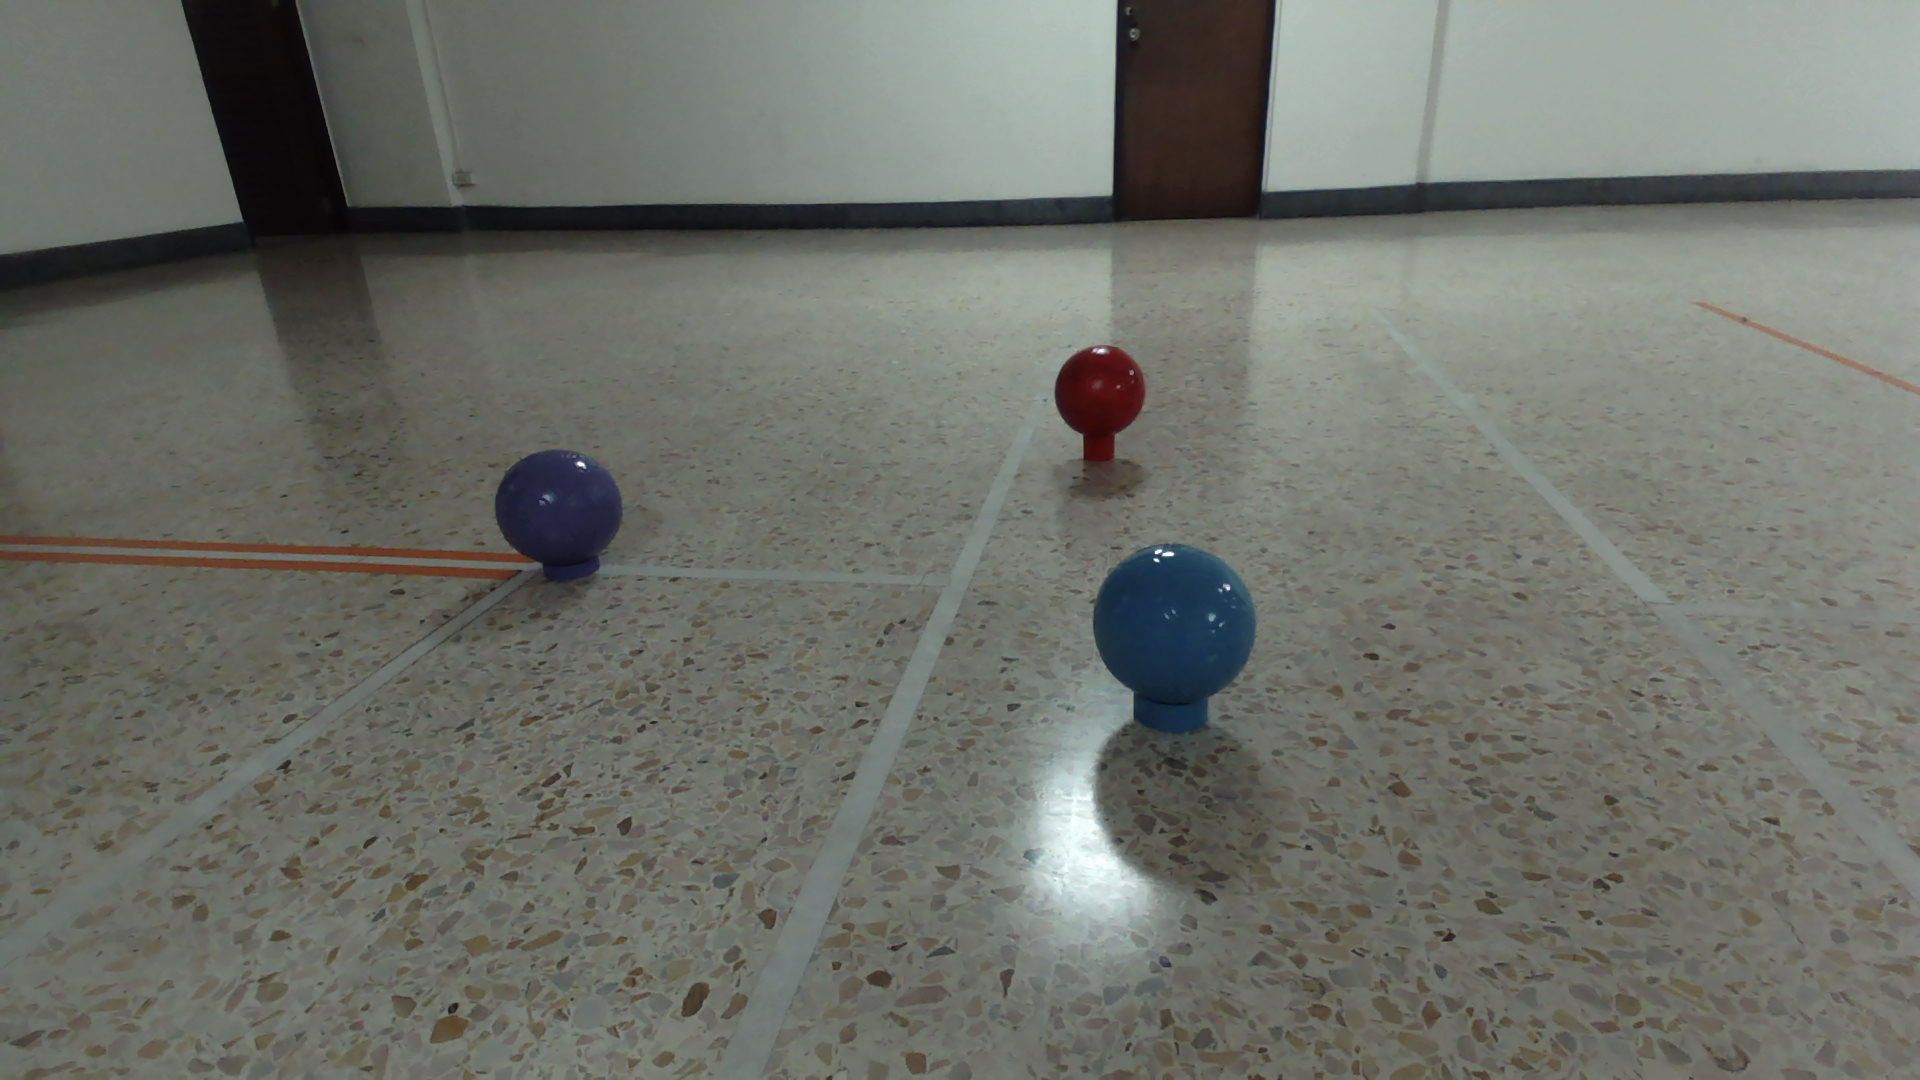Blue ball: (1084, 541, 1261, 705)
Purple ball: (491, 444, 628, 568)
Red ball: (1051, 343, 1147, 439)
